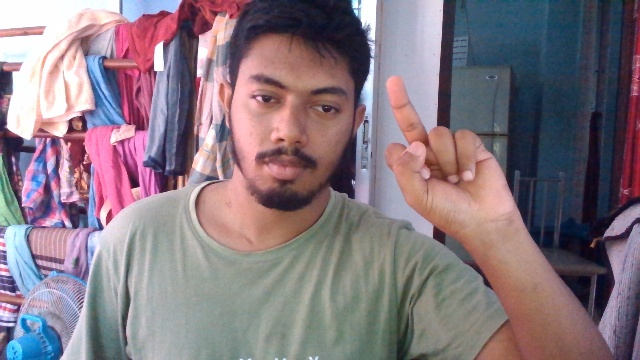fucku: (368, 76, 524, 227)
